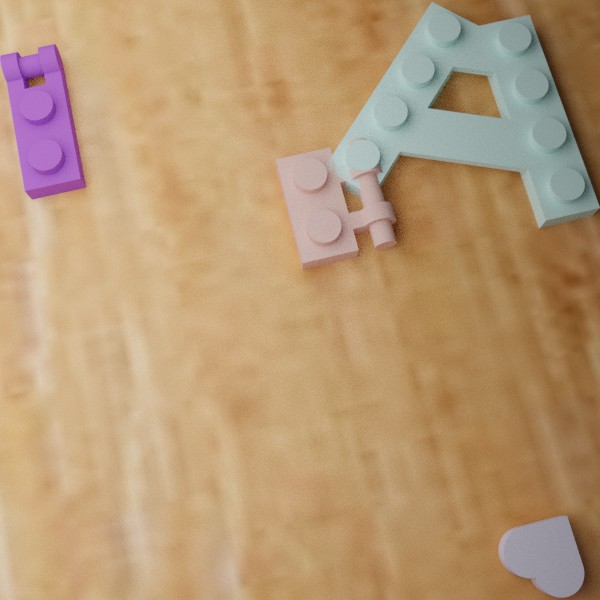lego: (323, 1, 600, 228), (276, 138, 397, 269), (0, 43, 86, 199), (498, 515, 584, 597)
